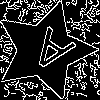A: (20, 25, 77, 83)
